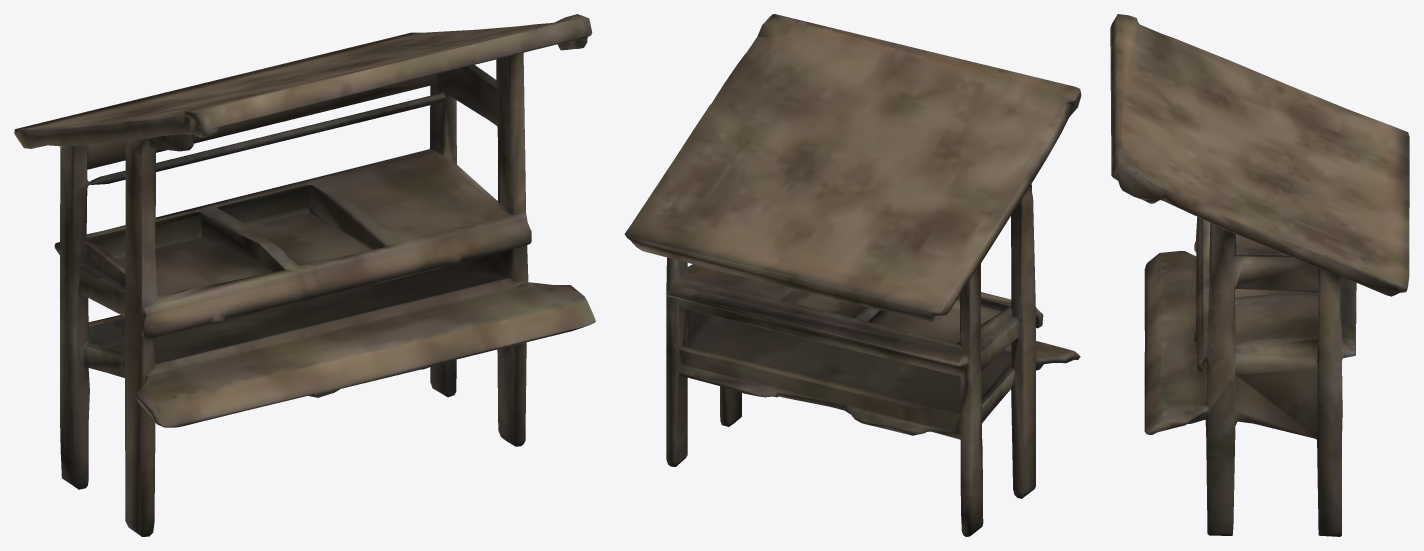
The model's file is plain-wood-market-stall-v001.glb.
The picture shows the model from 3 angles, left to right: view 1: azimuth 30°, elevation 25°; view 2: azimuth 150°, elevation 25°; view 3: azimuth 270°, elevation 25°; orthographic projection. The views are drawn at different scales.
Parts seen in each view (by area): view 1: plain-wood-market-stall; view 2: plain-wood-market-stall; view 3: plain-wood-market-stall.
Part boxes in pixels (box(x1,y1,x2,y2)): plain-wood-market-stall: box(14, 14, 595, 536); plain-wood-market-stall: box(624, 14, 1081, 536); plain-wood-market-stall: box(1110, 14, 1409, 536).
Size of the model in its own units: 2.2 by 2.26 by 1.63.
Materials: 1 (1 with a texture image).
